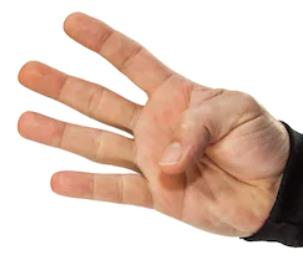right: (11, 11, 261, 234)
